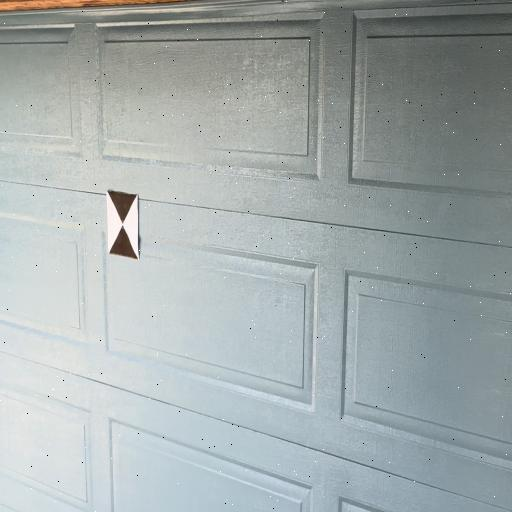target: (107, 190, 140, 260)
